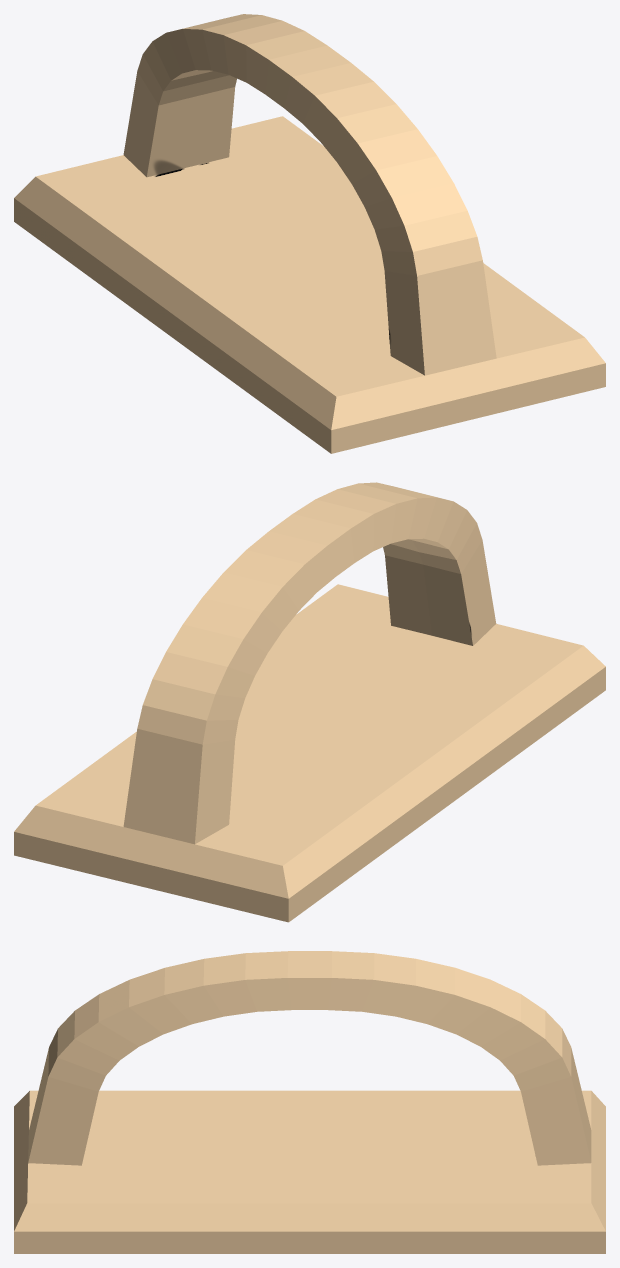
File: door_open.glb
The picture shows the model from 3 angles, top to bottom: view 1: azimuth 30°, elevation 25°; view 2: azimuth 150°, elevation 25°; view 3: azimuth 270°, elevation 25°; orthographic projection. The views are drawn at different scales.
Visible parts, largest first — view 1: Cylinder; view 2: Cylinder; view 3: Cylinder.
Part boxes in pixels (box(x1,y1,x2,y2)): Cylinder: box(14, 14, 605, 453); Cylinder: box(14, 482, 605, 922); Cylinder: box(14, 951, 605, 1253).
Size of the model in its own units: 1 by 0.8454 by 2.
1 material, 1 textured.
